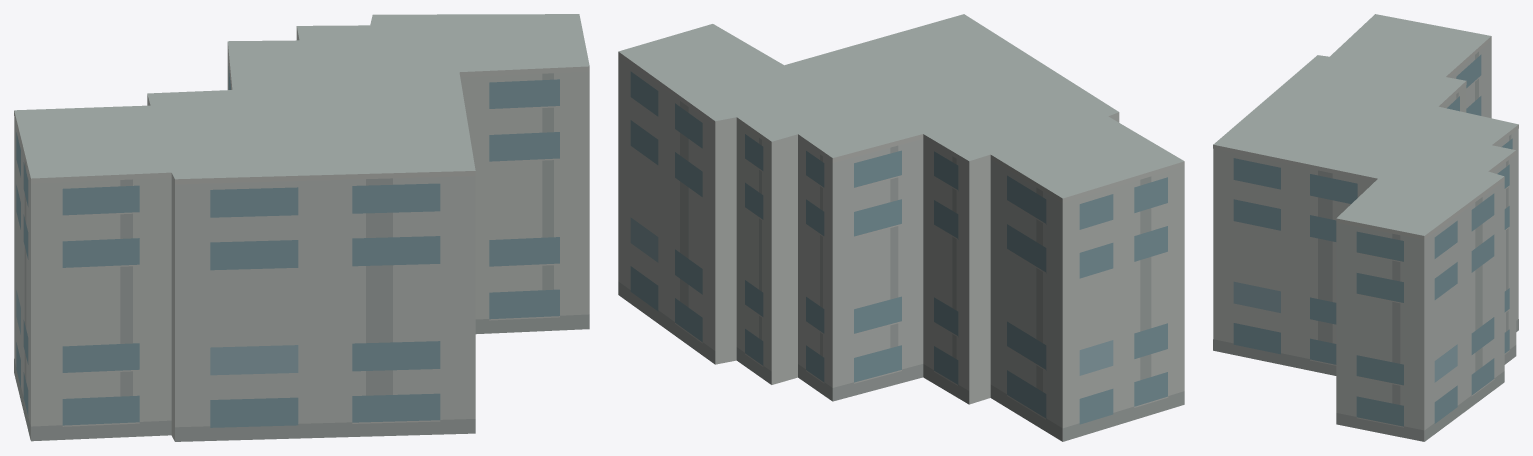
Rendered from survey-upis-32727875.glb.
3 renders of one model, left to right at view 1: azimuth 30°, elevation 25°; view 2: azimuth 150°, elevation 25°; view 3: azimuth 270°, elevation 25°, orthographic. The views are drawn at different scales.
Parts seen in each view (by area): view 1: survey-upis-32727875.tmp; view 2: survey-upis-32727875.tmp; view 3: survey-upis-32727875.tmp.
Boxes of the visible parts, x1,y1,x2,y2 form: survey-upis-32727875.tmp: (14, 14, 589, 441); survey-upis-32727875.tmp: (618, 14, 1184, 441); survey-upis-32727875.tmp: (1213, 14, 1518, 441).
Size of the model in its own units: 28.13 by 12.17 by 16.38.
